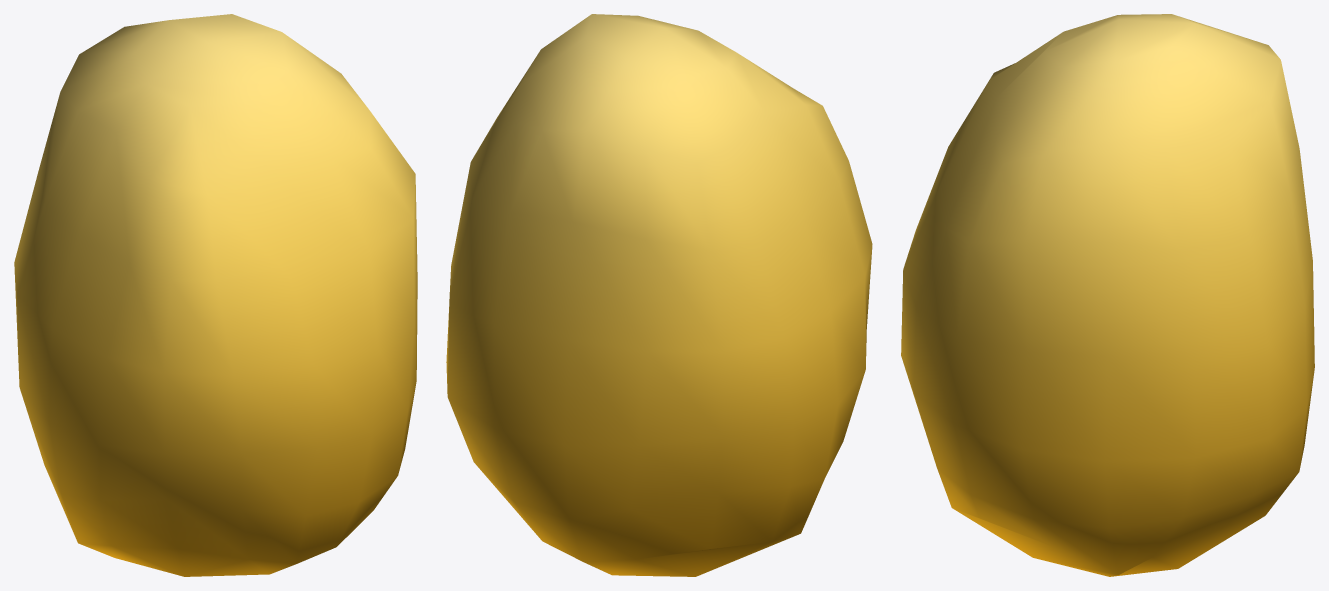
The model's file is patato_004.fbx.
3 renders of one model, left to right at view 1: azimuth 30°, elevation 25°; view 2: azimuth 150°, elevation 25°; view 3: azimuth 270°, elevation 25°, orthographic.
Parts seen in each view (by area): view 1: patato_004; view 2: patato_004; view 3: patato_004.
Part boxes in pixels (box(x1,y1,x2,y2)): patato_004: box(14, 14, 417, 576); patato_004: box(446, 14, 872, 576); patato_004: box(901, 14, 1314, 576).
Bounding box in the file's own units: 6.13 × 6.22 × 8.97.
